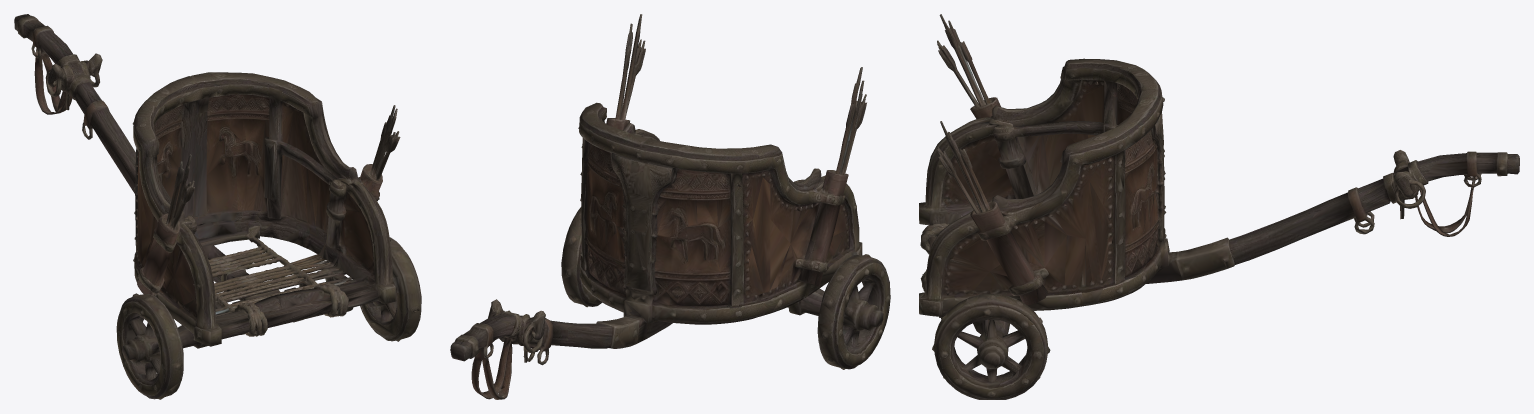
File: carro.gltf
3 renders of one model, left to right at view 1: azimuth 30°, elevation 25°; view 2: azimuth 150°, elevation 25°; view 3: azimuth 270°, elevation 25°, orthographic. The views are drawn at different scales.
Parts seen in each view (by area): view 1: Mesh_0; view 2: Mesh_0; view 3: Mesh_0.
Boxes of the visible parts, x1=… form: Mesh_0: x1=14, y1=14, x2=421, y2=399; Mesh_0: x1=450, y1=14, x2=890, y2=399; Mesh_0: x1=919, y1=14, x2=1519, y2=399.
Bounding box in the file's own units: 1.75 × 1.47 × 3.
1 material, 1 textured.
